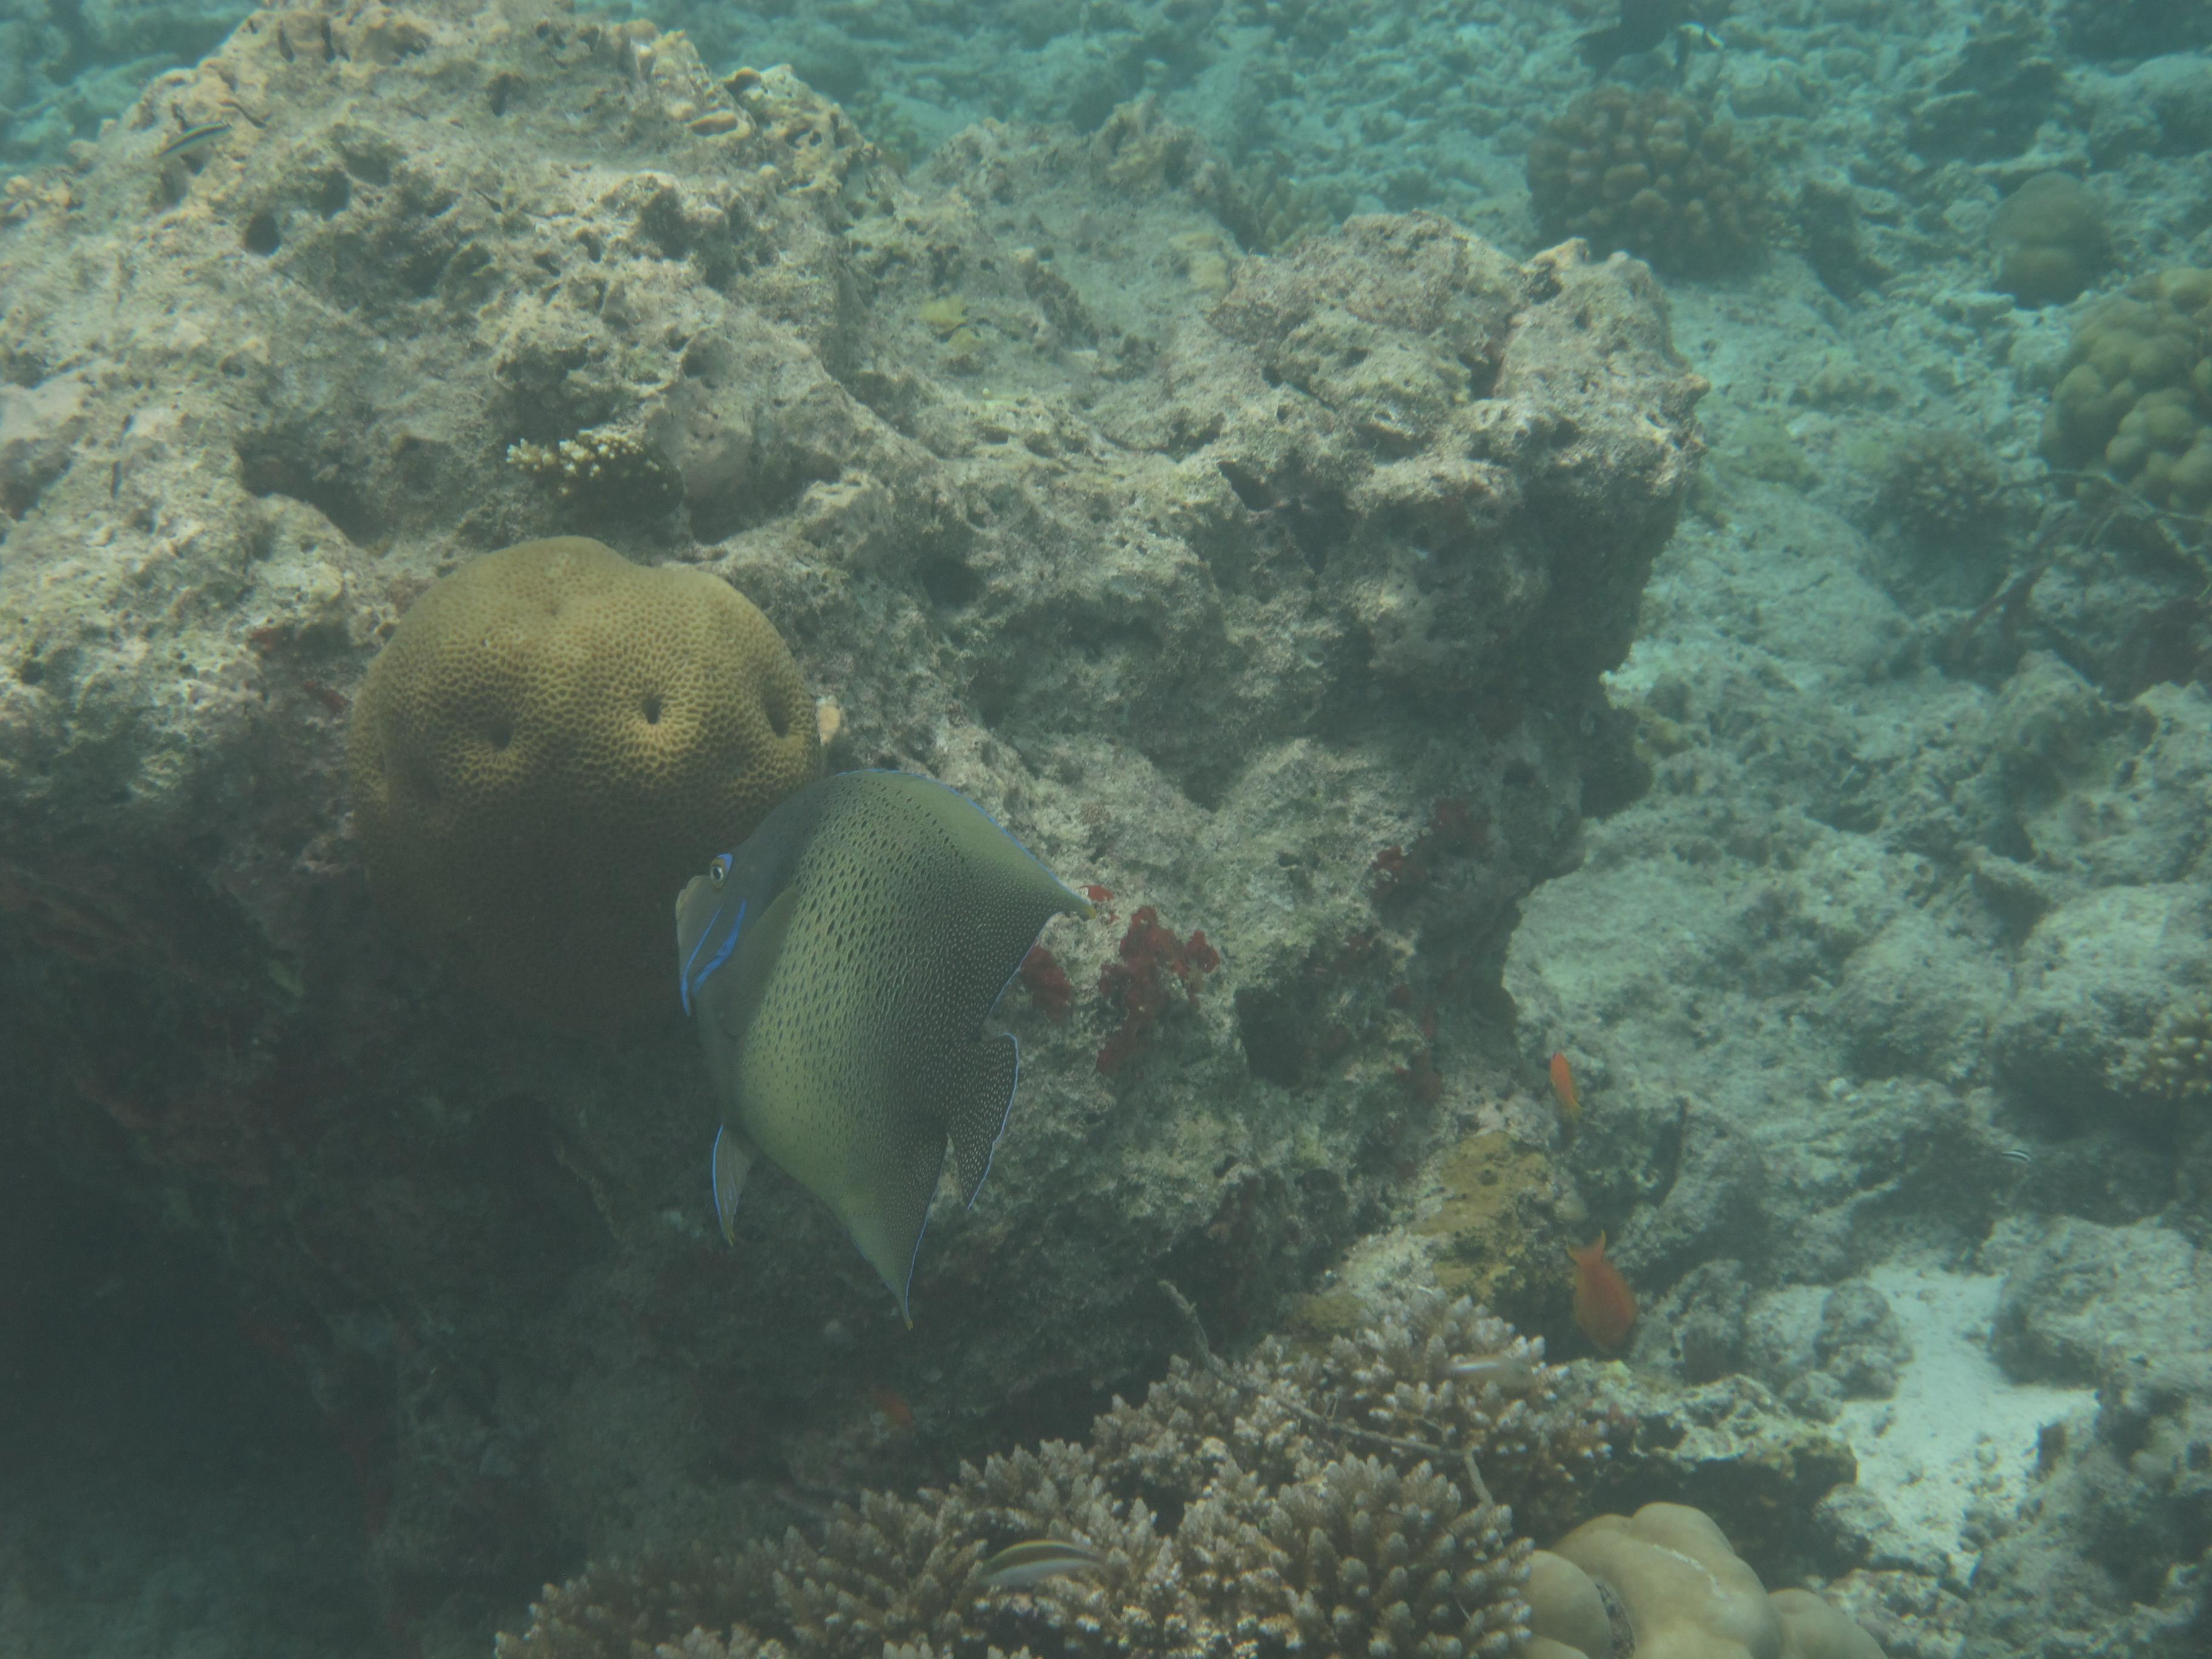Pomacanthus semicirculatus: (667, 718, 1108, 1342)
